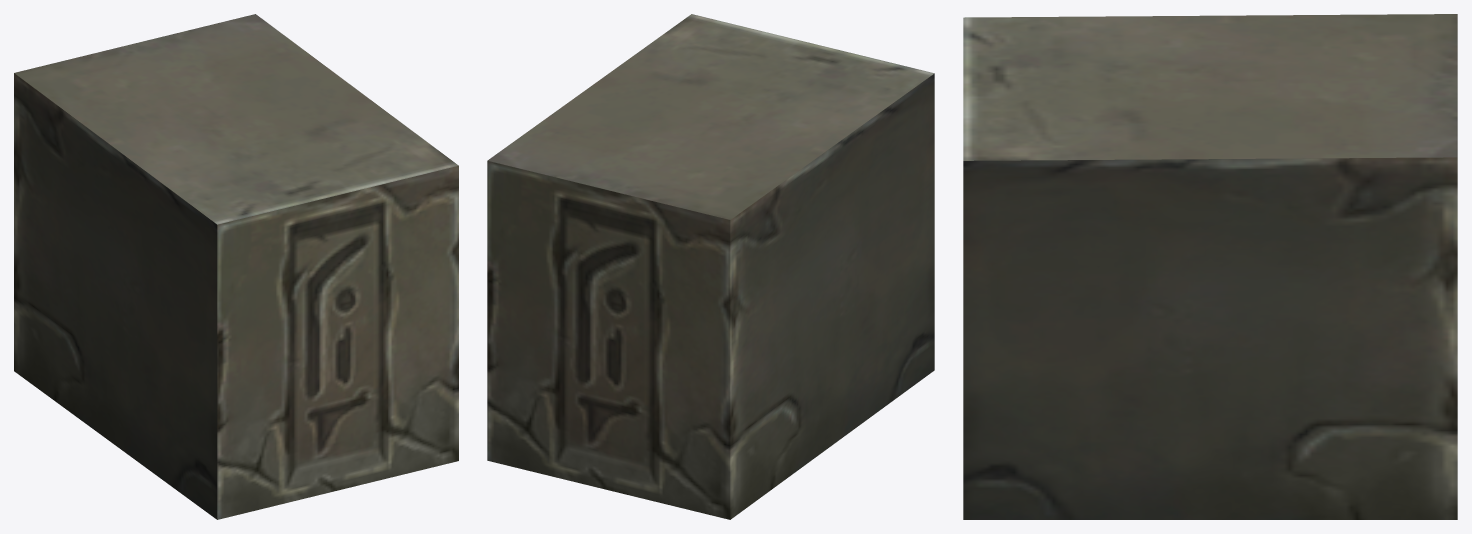
Rendered from F_yuanpan005.fbx.
3 renders of one model, left to right at view 1: azimuth 30°, elevation 25°; view 2: azimuth 150°, elevation 25°; view 3: azimuth 270°, elevation 25°, orthographic. The views are drawn at different scales.
Visible parts, largest first — view 1: F_yuanpan005; view 2: F_yuanpan005; view 3: F_yuanpan005.
Part boxes in pixels (x1=…): F_yuanpan005: x1=14, y1=14, x2=458, y2=519; F_yuanpan005: x1=487, y1=14, x2=934, y2=519; F_yuanpan005: x1=963, y1=14, x2=1457, y2=519.
Bounding box in the file's own units: 74.85 × 88.26 × 109.
